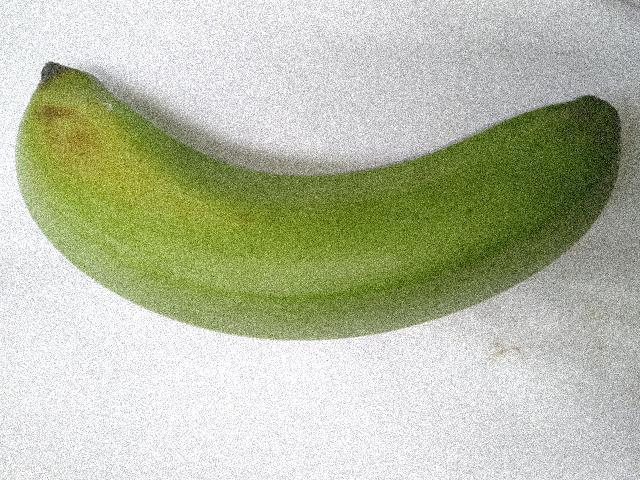freshunripe: (7, 41, 636, 355)
